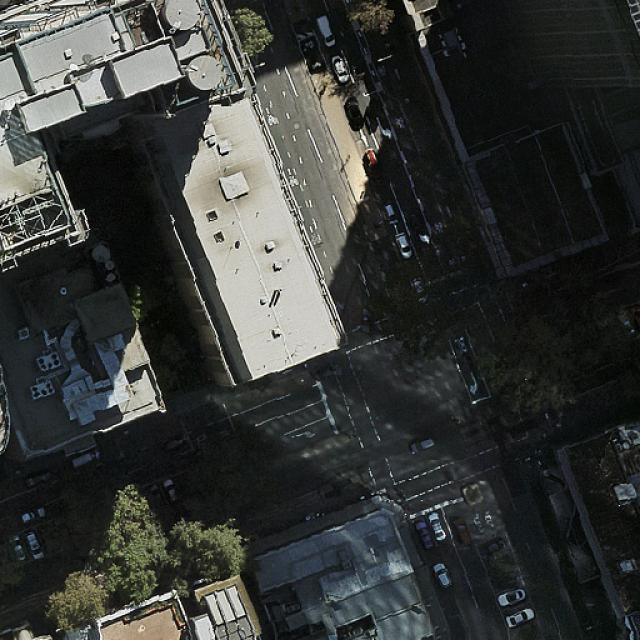Bike-Symbols: (285, 173, 302, 188), (264, 113, 280, 127), (446, 258, 462, 272), (308, 233, 322, 248), (432, 220, 446, 235), (392, 117, 407, 130), (334, 298, 346, 312), (376, 64, 387, 75)
